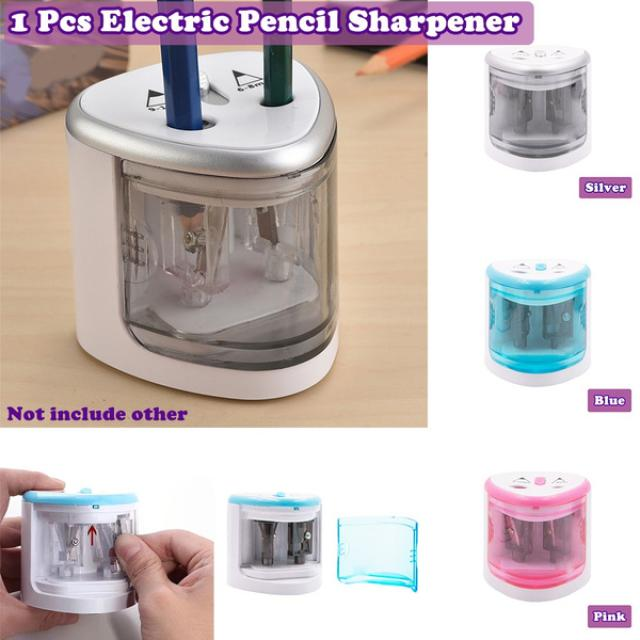pencil_sharpener: (473, 235, 622, 388)
